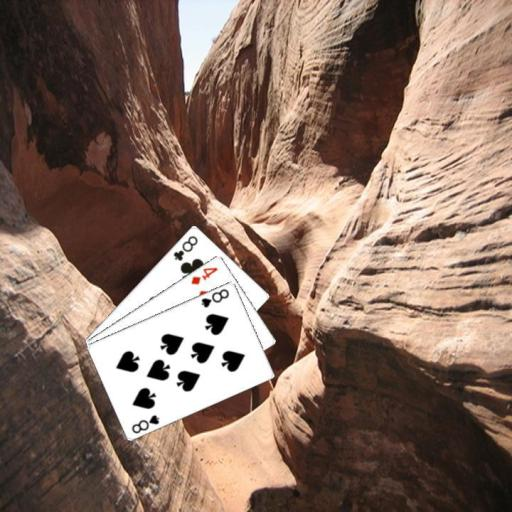4D: (188, 264, 219, 286)
8C: (170, 233, 199, 263)
8S: (199, 285, 231, 309), (129, 411, 161, 435)
